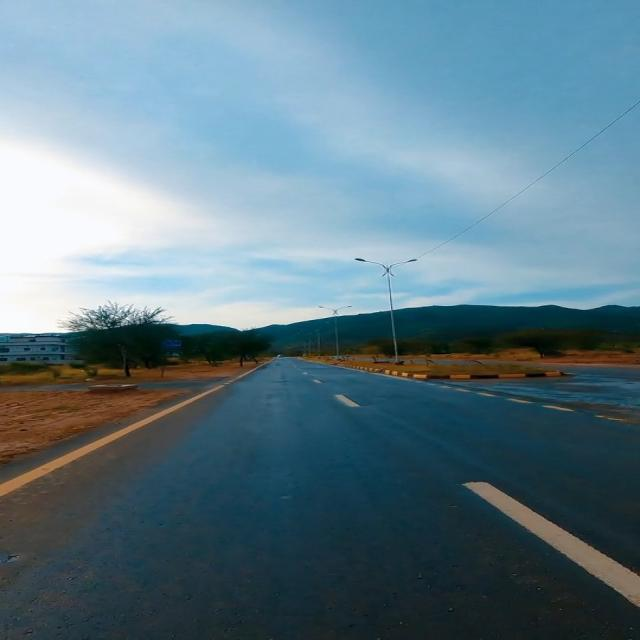asphalt: (0, 358, 639, 639)
